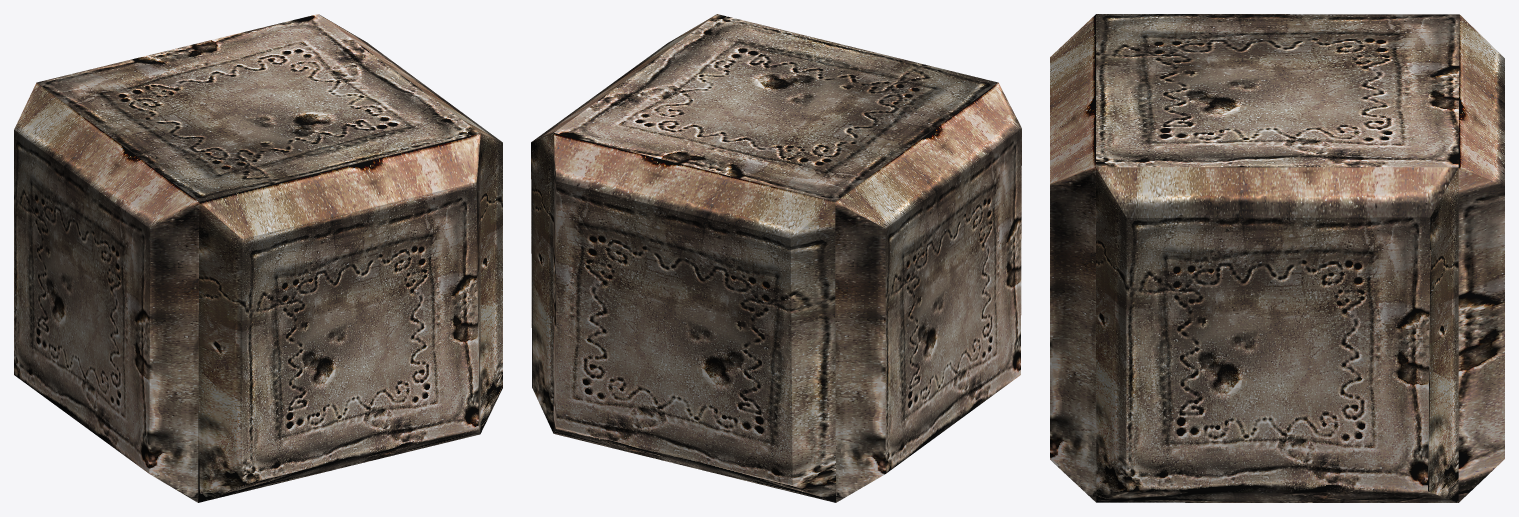
File: TRP_Block 01.FBX
3 views of the same model, side by side, from view 1: azimuth 30°, elevation 25°; view 2: azimuth 150°, elevation 25°; view 3: azimuth 270°, elevation 25° (orthographic). The views are drawn at different scales.
Visible parts, largest first — view 1: TRP_Block 01; view 2: TRP_Block 01; view 3: TRP_Block 01.
Part boxes in pixels (x1,y1,x2,y2): TRP_Block 01: [14, 14, 502, 502]; TRP_Block 01: [531, 14, 1021, 502]; TRP_Block 01: [1050, 14, 1504, 502].
Bounding box in the file's own units: 91.08 × 91.04 × 74.16.
Materials: 1 (1 with a texture image).
